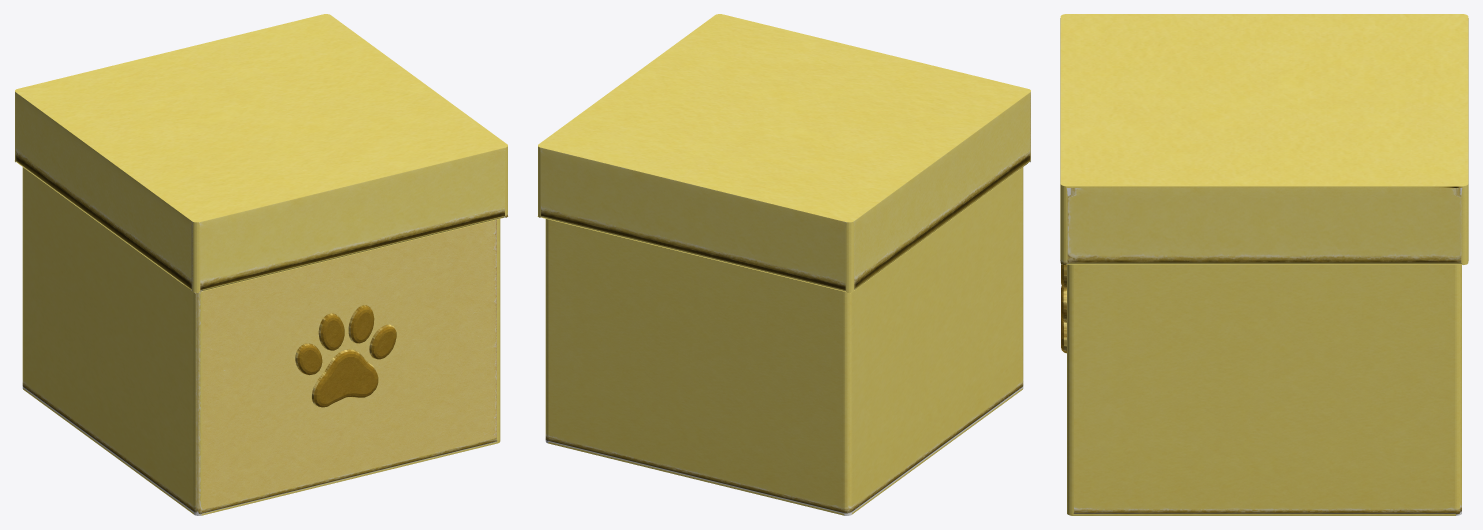
Rendered from DogBox_Yellow.fbx.
3 renders of one model, left to right at view 1: azimuth 30°, elevation 25°; view 2: azimuth 150°, elevation 25°; view 3: azimuth 270°, elevation 25°, orthographic. The views are drawn at different scales.
Parts seen in each view (by area): view 1: Cube.004; view 2: Cube.004; view 3: Cube.004.
Part boxes in pixels (x1,y1,x2,y2): Cube.004: (14, 14, 508, 515); Cube.004: (537, 14, 1031, 515); Cube.004: (1060, 14, 1468, 515).
Bounding box in the file's own units: 207 × 186 × 207.
2 materials, 2 textured.
